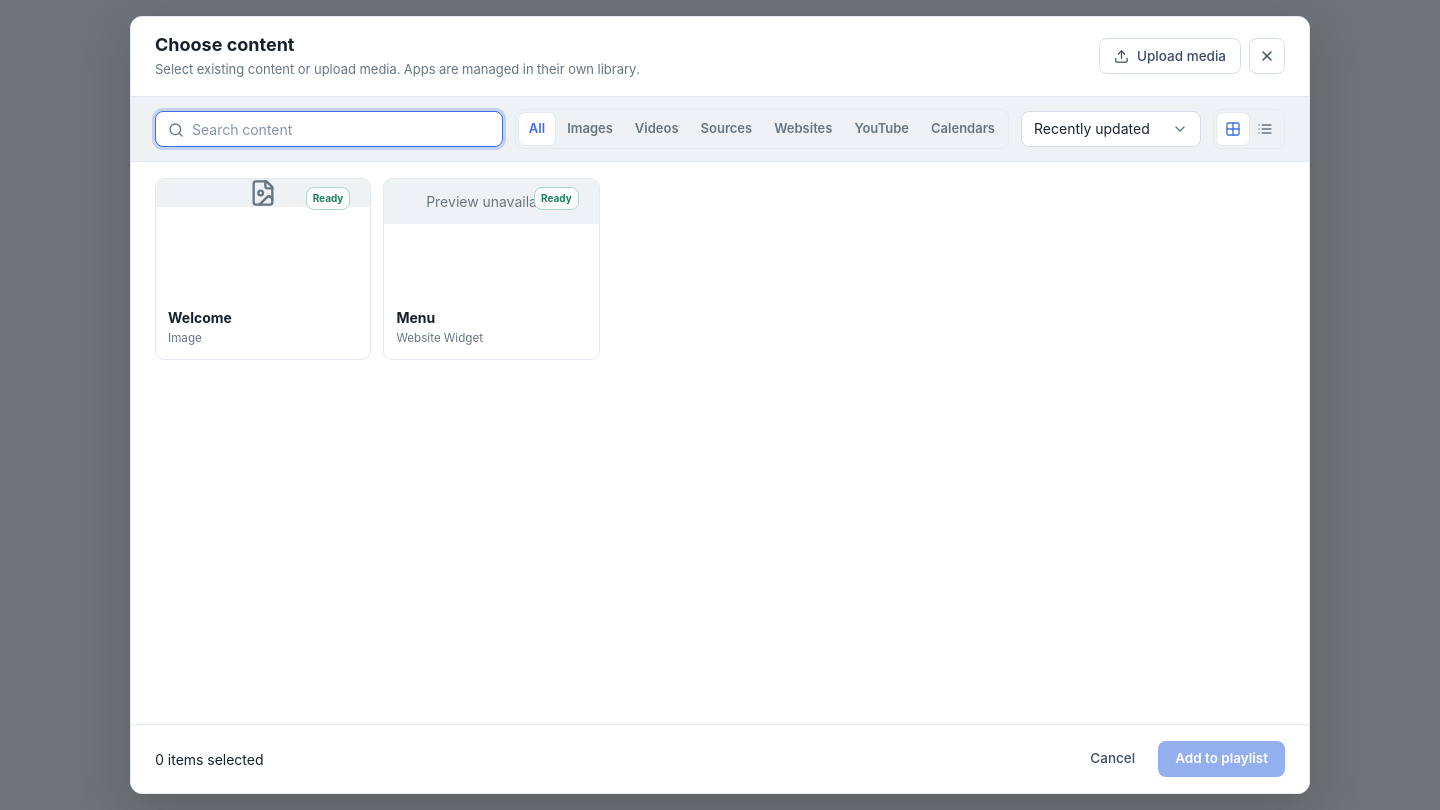
Test: ContentPicker › keeps only the latest selection in single mode
Click the button "Welcome Image Ready" at (263, 269), box x1=155 y1=178 x2=371 y2=360
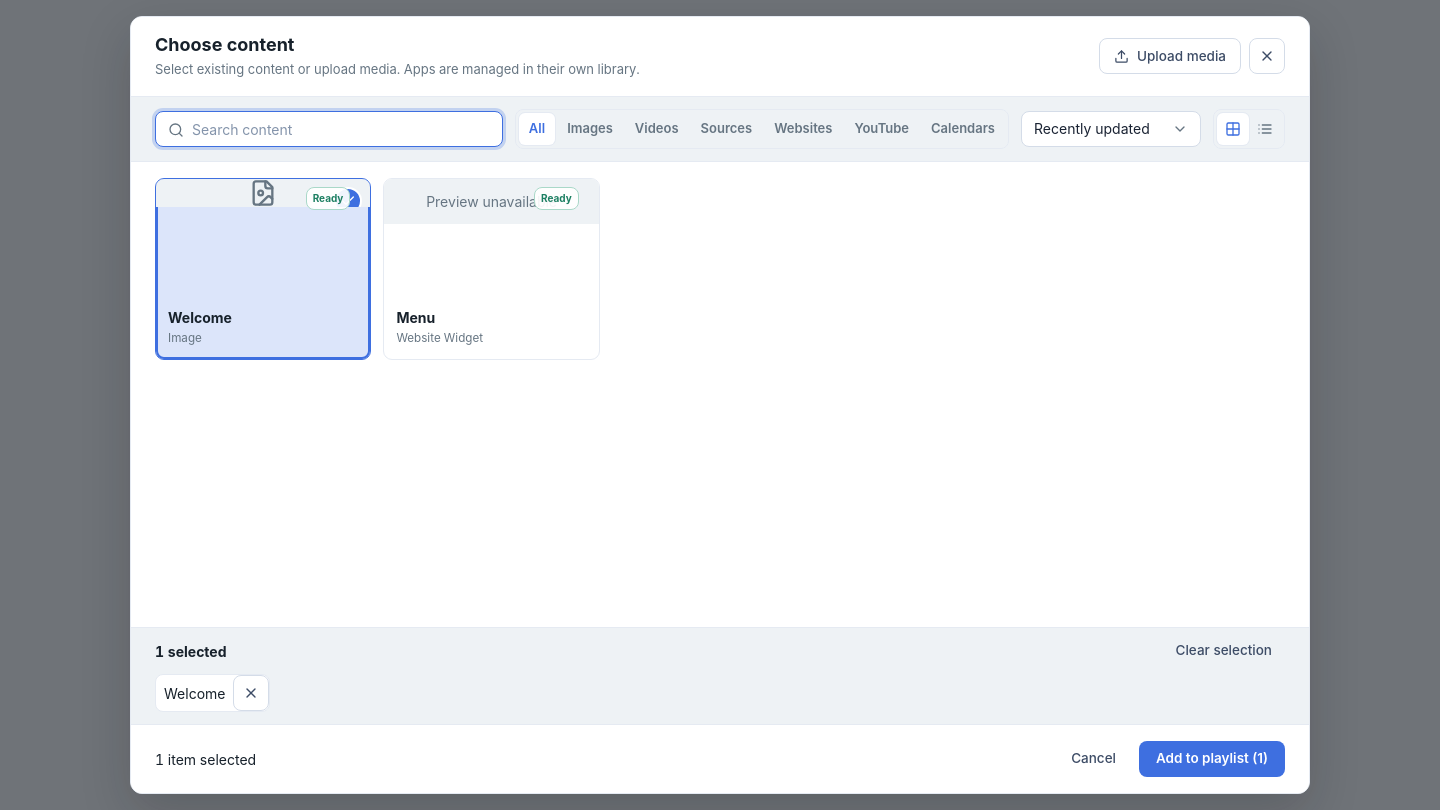
Click the button "Preview unavailable Menu Website Widget Ready" at (492, 269), box x1=383 y1=178 x2=600 y2=360
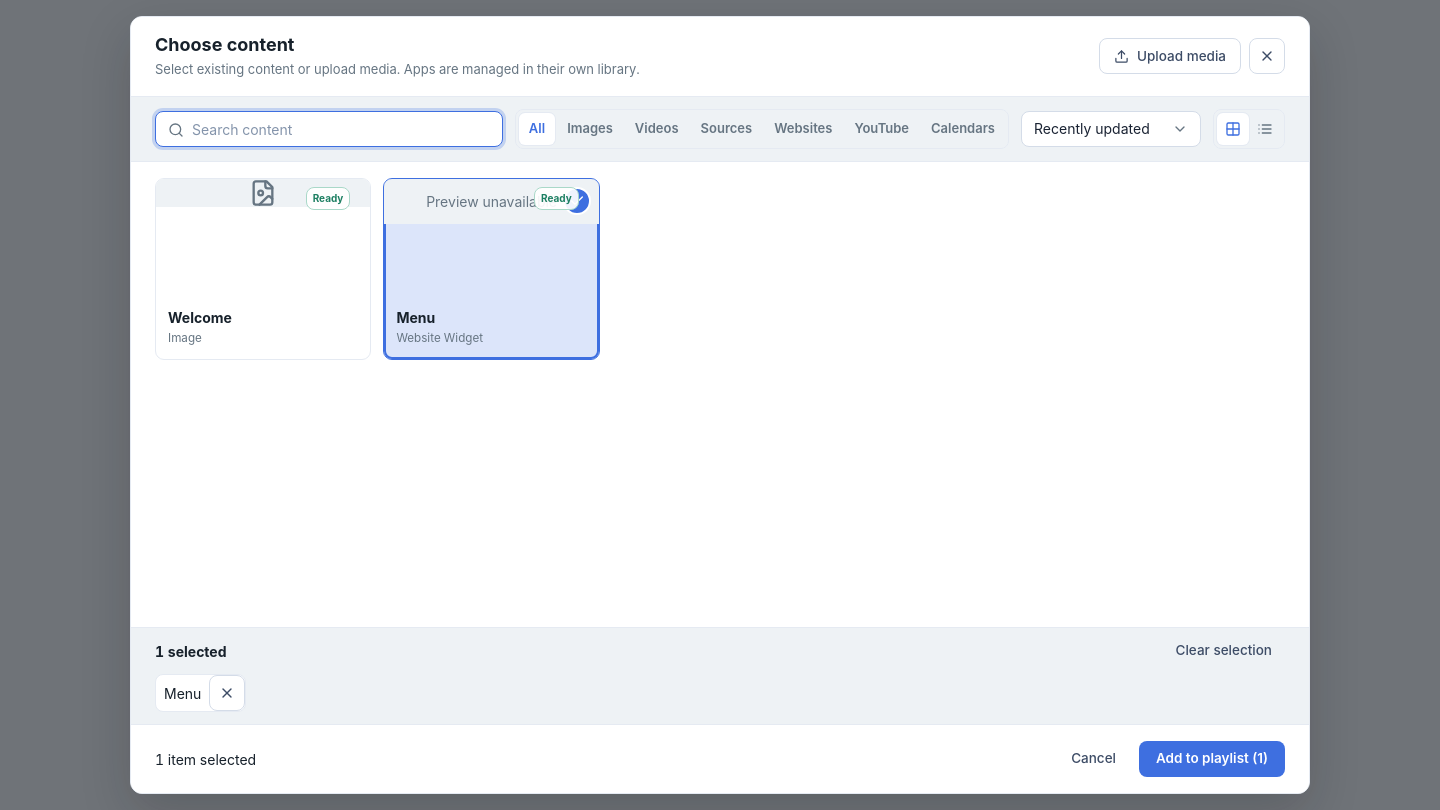
Expected: the element with class "selected-content-tray" does not show "Welcome", x1=131 y1=627 x2=1309 y2=724
Expected: the text "1 selected" is shown, x1=155 y1=640 x2=226 y2=662
Expected: the element with class "selected-content-tray" shows "Menu", x1=164 y1=684 x2=201 y2=702
